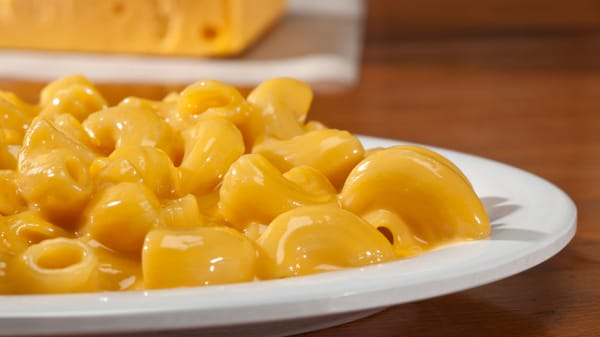curry: (11, 8, 598, 332)
